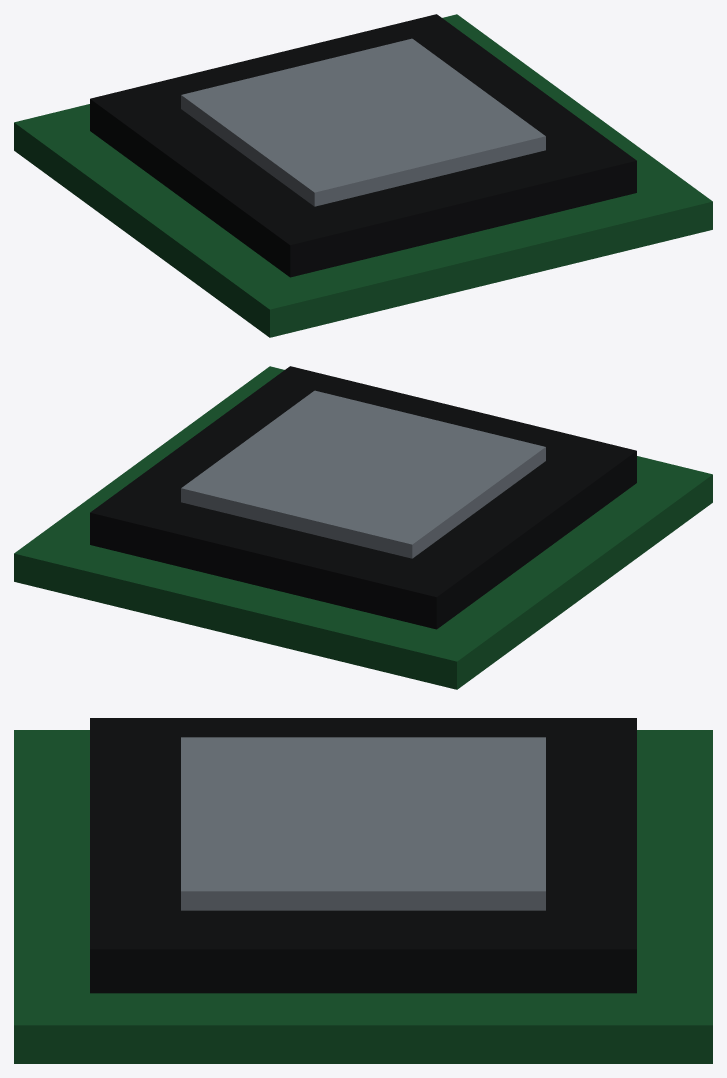
Rendered from L32_B850_CHIPSET.fbx.
3 views of the same model, one above another, from view 1: azimuth 30°, elevation 25°; view 2: azimuth 150°, elevation 25°; view 3: azimuth 270°, elevation 25° (orthographic). The views are drawn at different scales.
Visible parts, largest first — view 1: B850_CHIPSET_Black, B850_CHIPSET_Green, B850_CHIPSET_Steel; view 2: B850_CHIPSET_Black, B850_CHIPSET_Green, B850_CHIPSET_Steel; view 3: B850_CHIPSET_Green, B850_CHIPSET_Black, B850_CHIPSET_Steel.
Boxes of the visible parts, x1,y1,x2,y2 form: B850_CHIPSET_Black: [90, 14, 636, 277]; B850_CHIPSET_Green: [14, 14, 712, 337]; B850_CHIPSET_Steel: [181, 38, 545, 206]; B850_CHIPSET_Black: [90, 366, 636, 629]; B850_CHIPSET_Green: [14, 366, 712, 689]; B850_CHIPSET_Steel: [181, 390, 545, 558]; B850_CHIPSET_Green: [14, 730, 712, 1063]; B850_CHIPSET_Black: [90, 718, 636, 993]; B850_CHIPSET_Steel: [181, 737, 545, 910].
Bounding box in the file's own units: 2.3 × 0.37 × 2.3.
